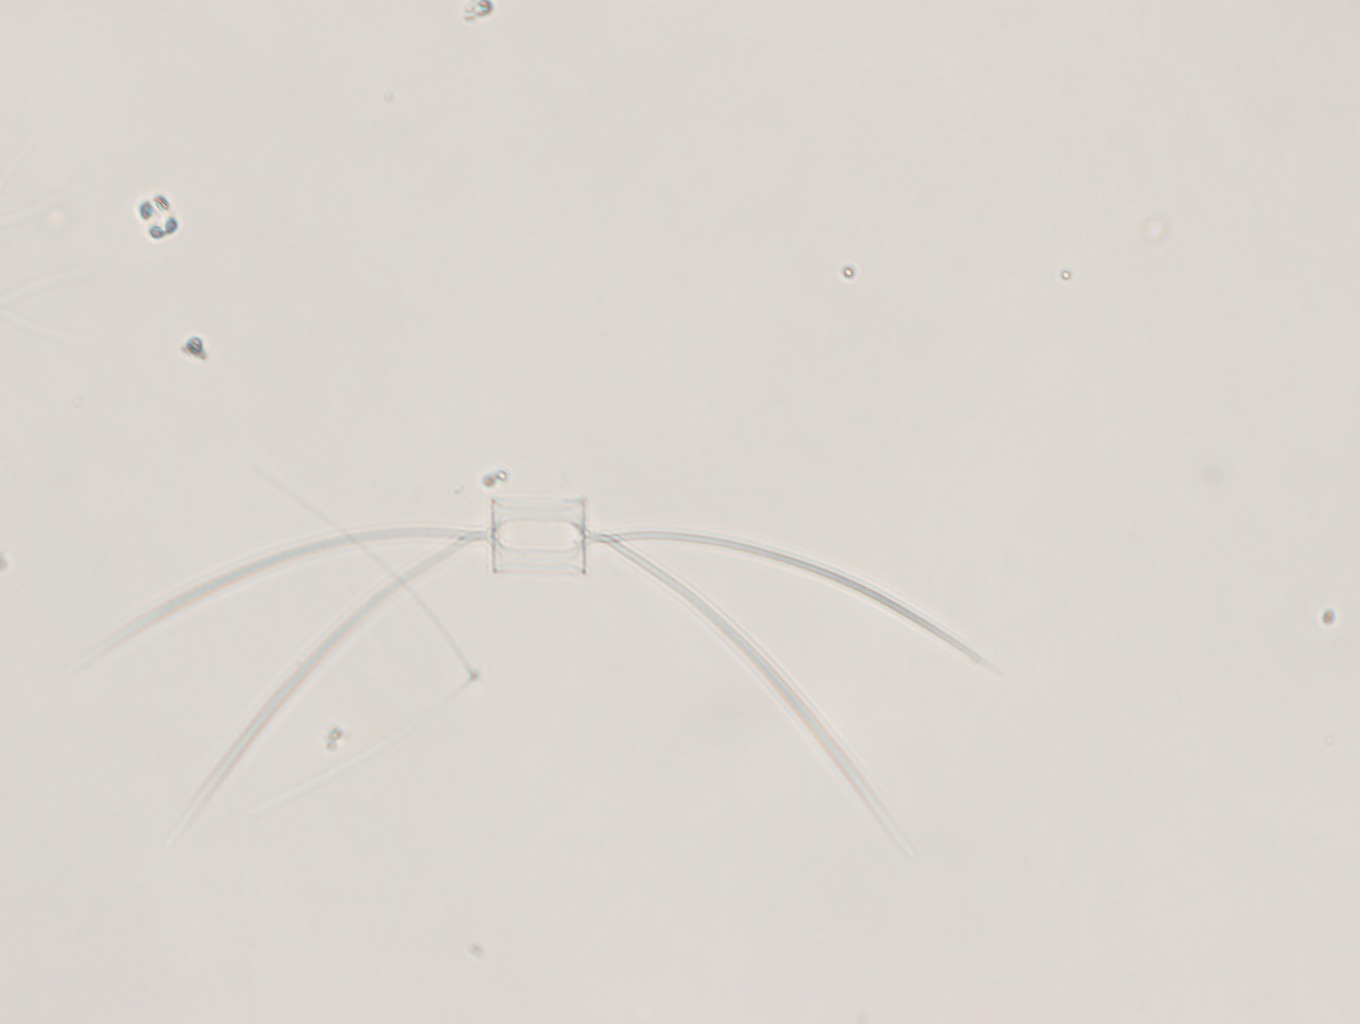chaetoceros: (86, 492, 999, 847)
